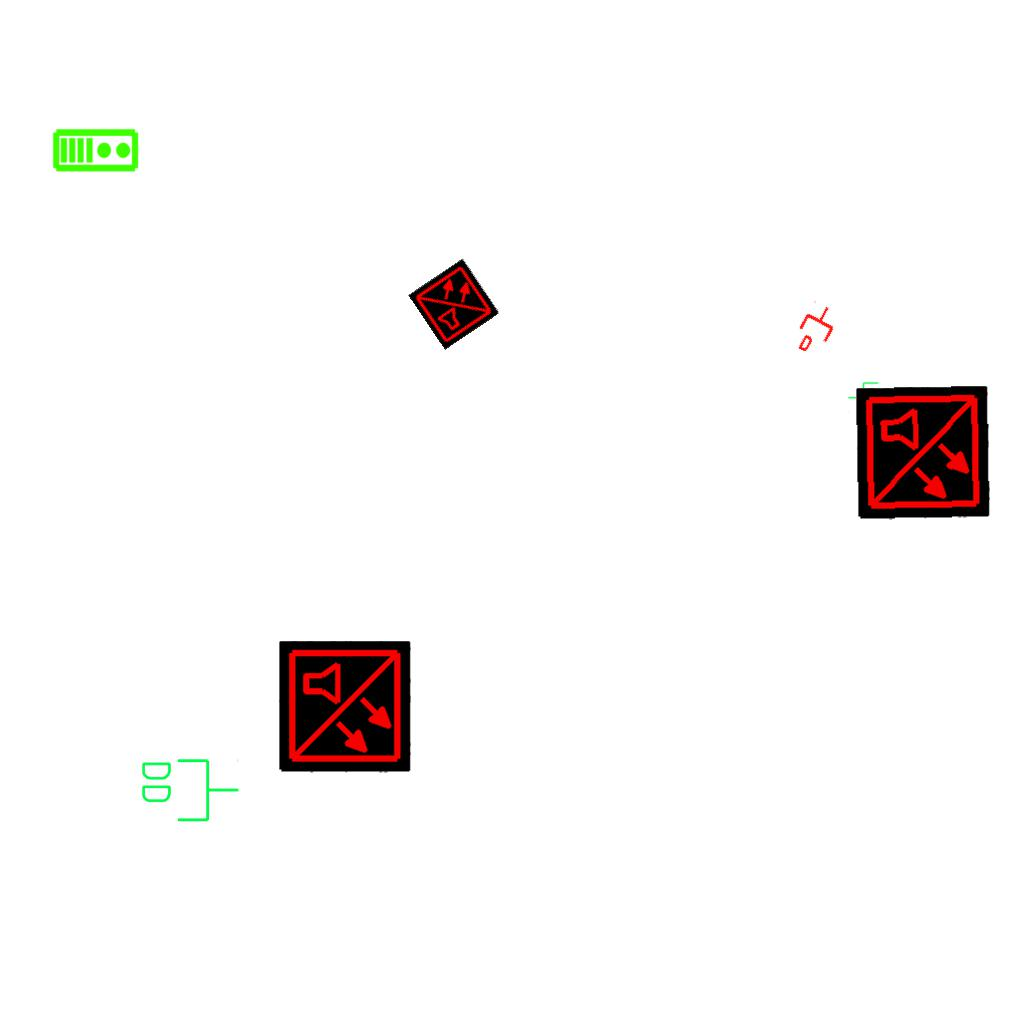Datenanschluss_einfach: (789, 298, 843, 360)
Datenanschluss_zweifach: (138, 755, 241, 824), (847, 381, 898, 415)
Gegensprechanlage_mit_Video: (52, 126, 140, 173)
OKW_Multisensormelder_(Kombination_optischer_Rauch-Kahlenmonoxid_Waerme-Melder): (855, 385, 991, 521), (279, 641, 411, 773), (408, 258, 500, 350)
